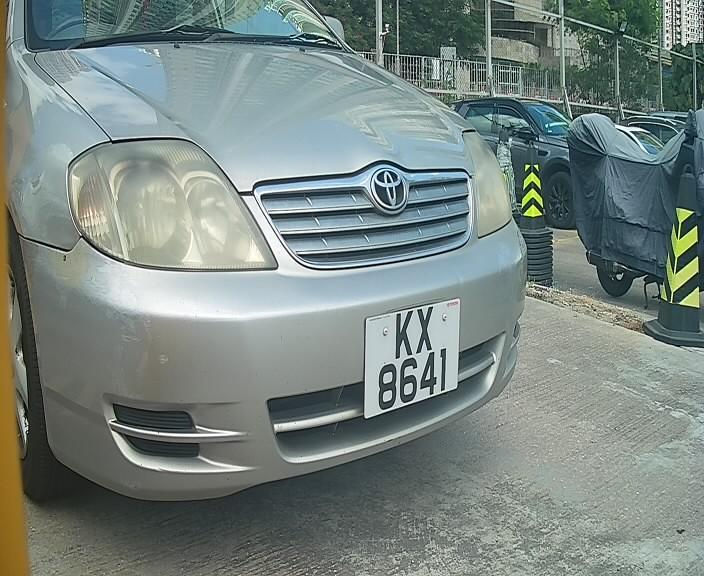License Plate: (356, 294, 463, 422)
